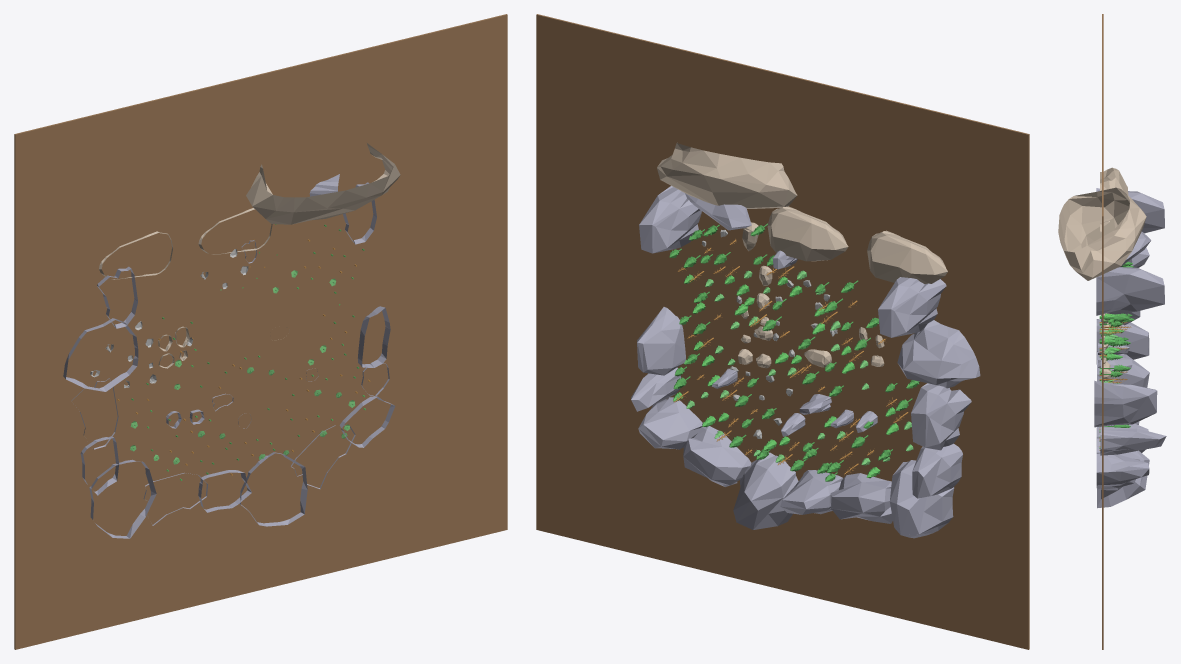
Rendered from landscape.fbx.
3 renders of one model, left to right at view 1: azimuth 30°, elevation 25°; view 2: azimuth 150°, elevation 25°; view 3: azimuth 270°, elevation 25°, orthographic. The views are drawn at different scales.
Visible parts, largest first — view 1: Landscape; view 2: Landscape; view 3: Landscape.
Boxes of the visible parts, x1,y1,x2,y2 form: Landscape: (14, 14, 507, 649); Landscape: (536, 14, 1029, 649); Landscape: (1058, 14, 1166, 649).
Bounding box in the file's own units: 6000 × 6000 × 1360.
